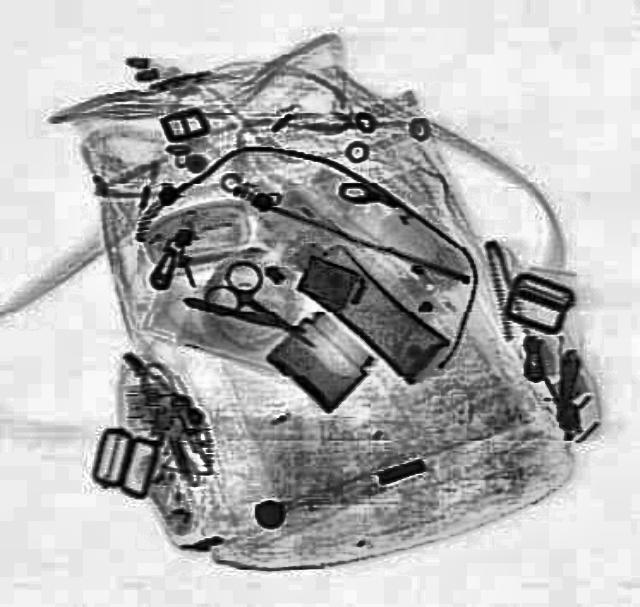Scissors: (194, 251, 332, 367)
